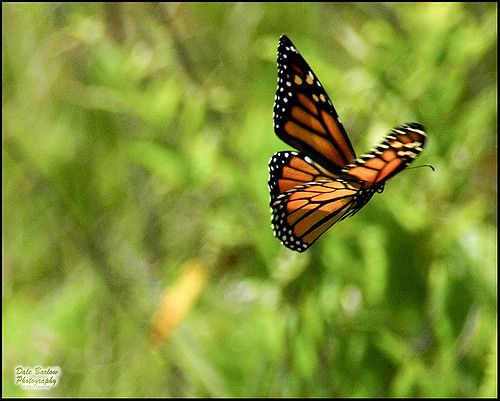Butterfly: (268, 31, 432, 252)
